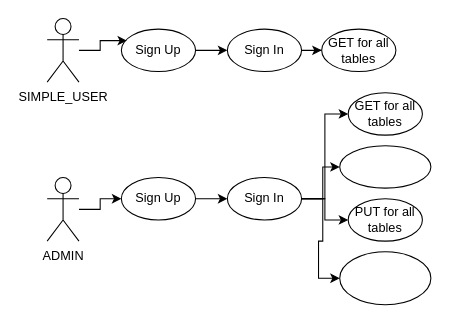
The diagram is 449 pixels wide and 323 high, and some of its shapes have lost their labels. The shapes that lost their labels are listed below. From the top down, each one's centre as x and y in pixels, then its label:
At pixel 385 166: "POST for all tables".
At pixel 385 278: "DELETE for all tables".
